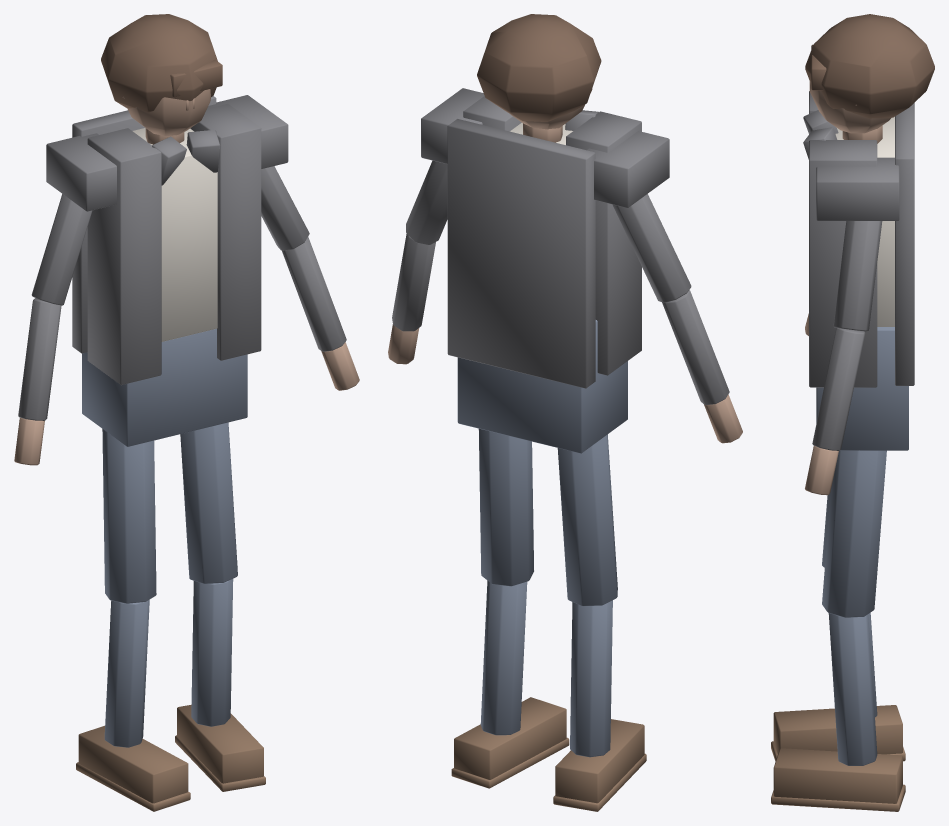
Rendered from char_customer_casual_b_01.glb.
3 views of the same model, side by side, from view 1: azimuth 30°, elevation 25°; view 2: azimuth 150°, elevation 25°; view 3: azimuth 270°, elevation 25° (orthographic). The views are drawn at different scales.
Visible parts, largest first — view 1: char_customer_casual_b_01; view 2: char_customer_casual_b_01; view 3: char_customer_casual_b_01.
Part boxes in pixels (box(x1,y1,x2,y2)): char_customer_casual_b_01: box(14, 14, 359, 811); char_customer_casual_b_01: box(388, 14, 742, 811); char_customer_casual_b_01: box(771, 14, 934, 811).
Size of the model in its own units: 0.8197 by 1.7 by 0.3341.
